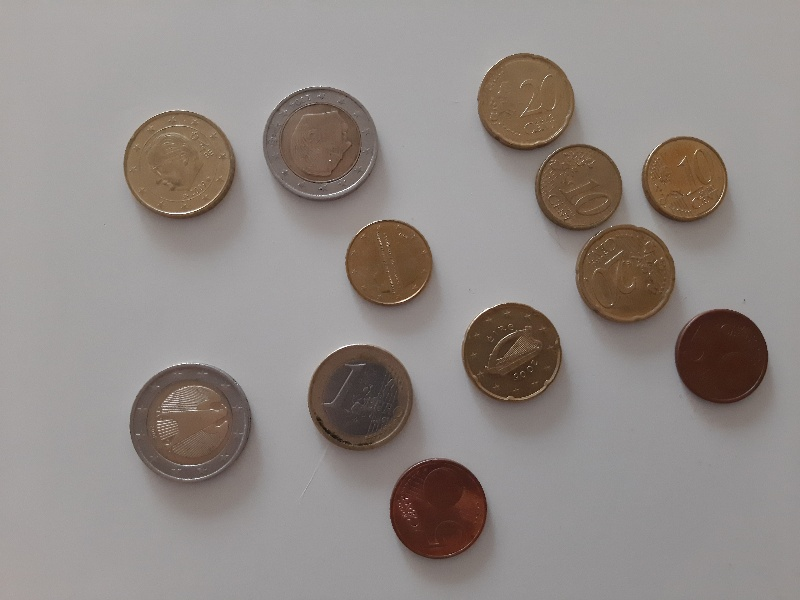1 euro: (306, 341, 415, 455)
10 cent: (341, 216, 437, 309), (532, 143, 625, 232), (642, 134, 731, 224)
2 euro: (126, 360, 256, 487), (261, 83, 384, 206)
20 cent: (459, 299, 565, 409), (572, 224, 679, 324), (473, 50, 577, 150)
5 cent: (388, 455, 491, 562), (674, 308, 770, 409)
50 cent: (120, 108, 237, 223)
